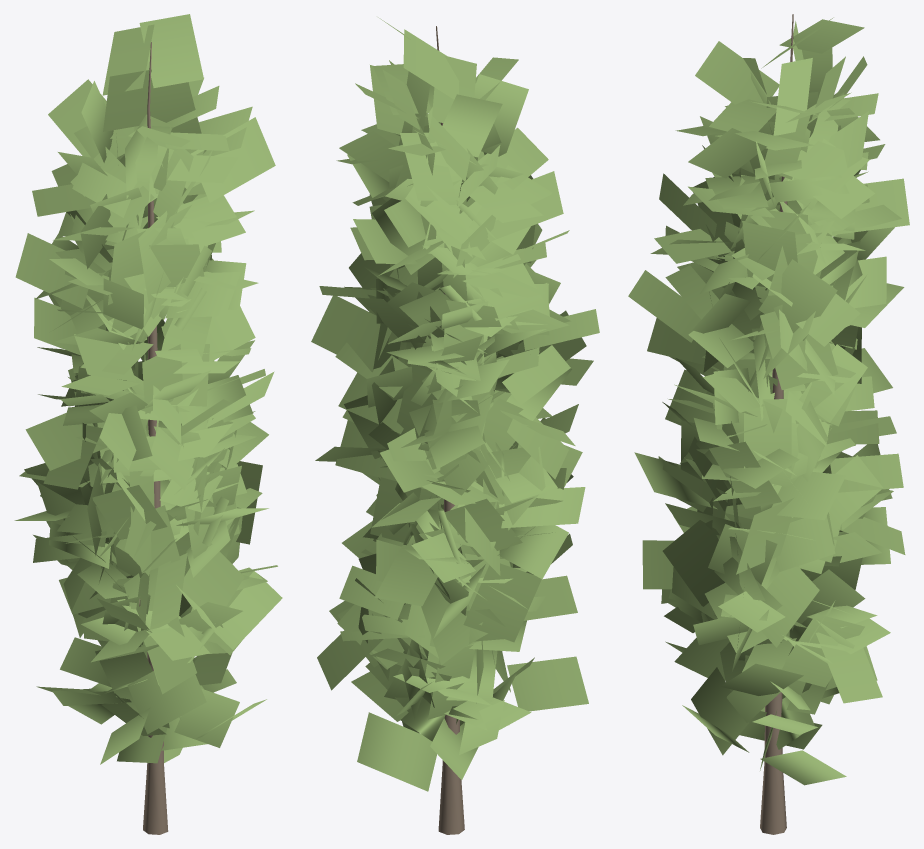
The model's file is Poplar_11_young_lod1.glb.
3 views of the same model, side by side, from view 1: azimuth 30°, elevation 25°; view 2: azimuth 150°, elevation 25°; view 3: azimuth 270°, elevation 25° (orthographic). The views are drawn at different scales.
Visible parts, largest first — view 1: Poplar_11_young_lod1; view 2: Poplar_11_young_lod1; view 3: Poplar_11_young_lod1.
Boxes of the visible parts, x1,y1,x2,y2 form: Poplar_11_young_lod1: (14,14,282,834); Poplar_11_young_lod1: (311,17,599,834); Poplar_11_young_lod1: (628,14,909,834).
Bounding box in the file's own units: 3.72 × 11.39 × 3.52.
